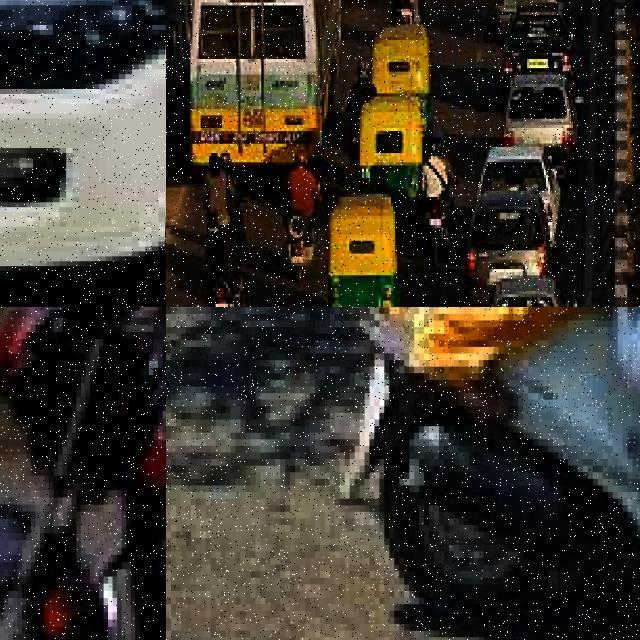bike: (330, 307, 640, 637), (0, 307, 166, 640), (280, 209, 318, 285), (420, 194, 454, 272), (207, 278, 244, 307)
car: (0, 0, 166, 307)
